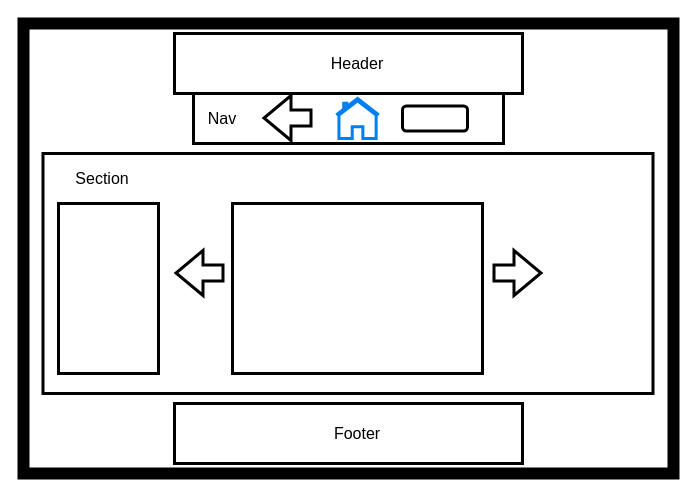
This 696x496 diagram has some shape labels left out. The centre of each missing label's shape, as x and y in pixels:
Article: (x=357, y=288)
Aside: (x=108, y=288)
